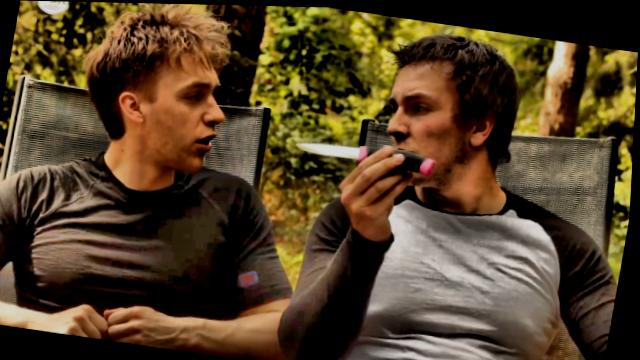knife: (285, 121, 449, 192)
